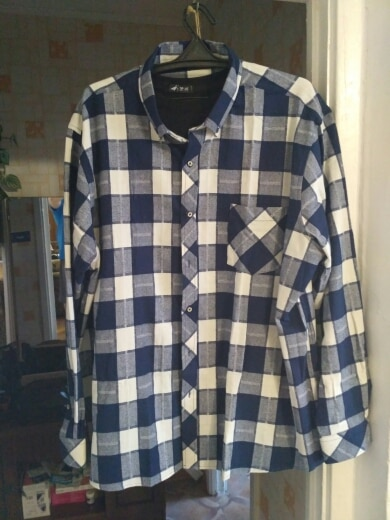shirts: (60, 40, 372, 488)
